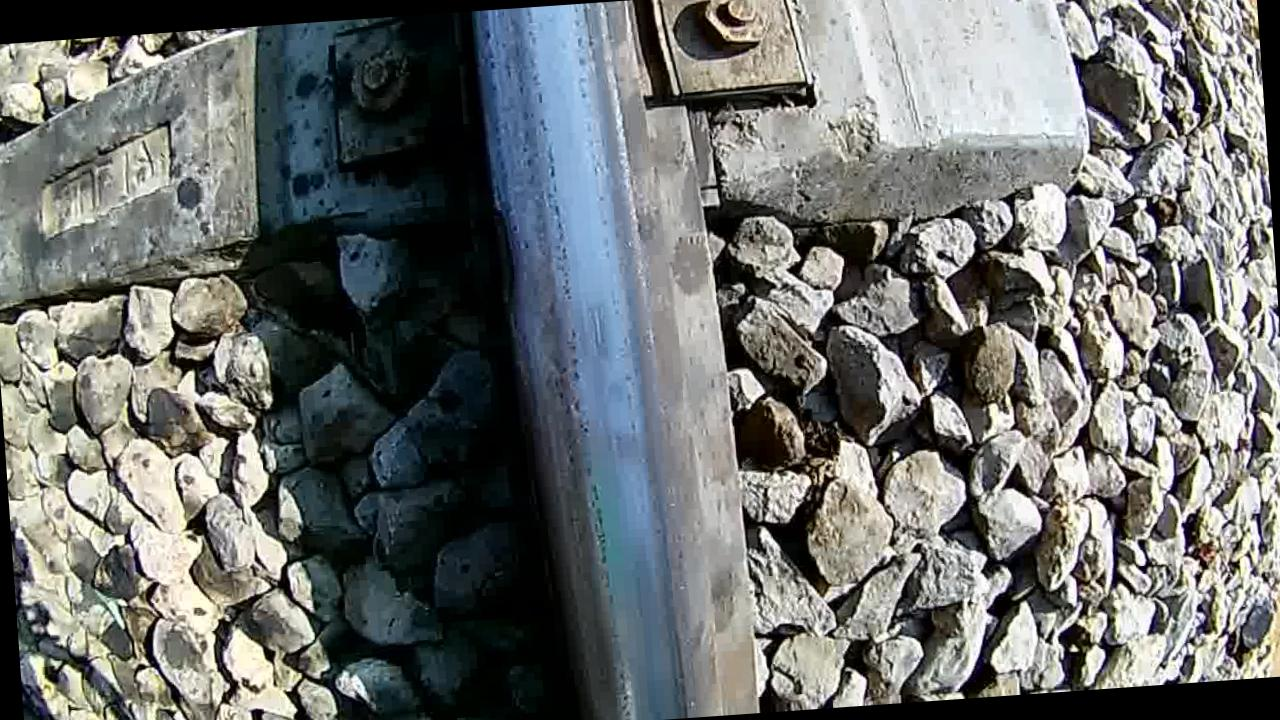clip_missing: (481, 0, 714, 714)
